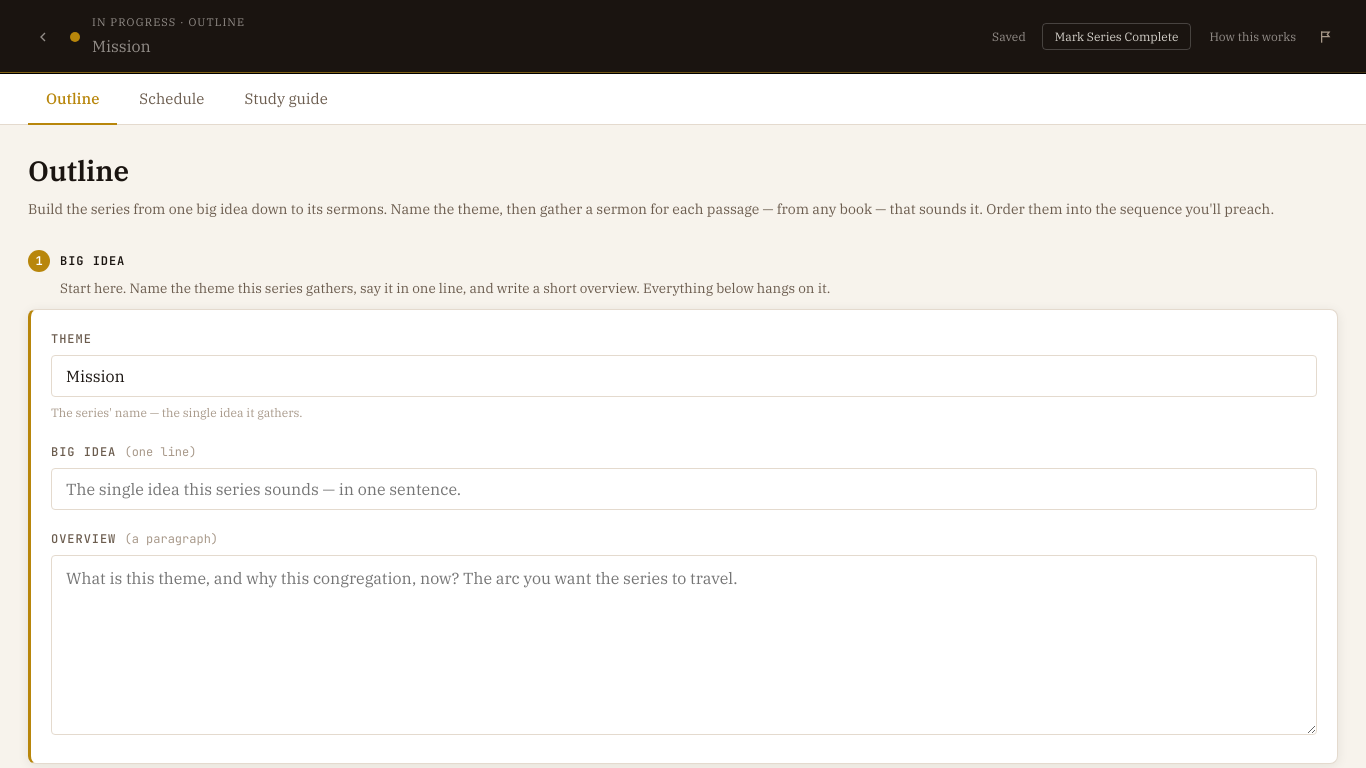
Test case: SeriesPlanner — save-failure retry safety › keeps 'Save failed' after an unrelated successful save while an earlier field write is still unsaved, and Retry recovers it (finding 15/1a)
The width and height of the screenshot is (1366, 768).
Expected: the text "Saved" is shown, [992,29,1026,44]
Replace the text in the field with placeholder "e.g. The Mission of God" with "T1": (684, 376) [51,356,1317,398]
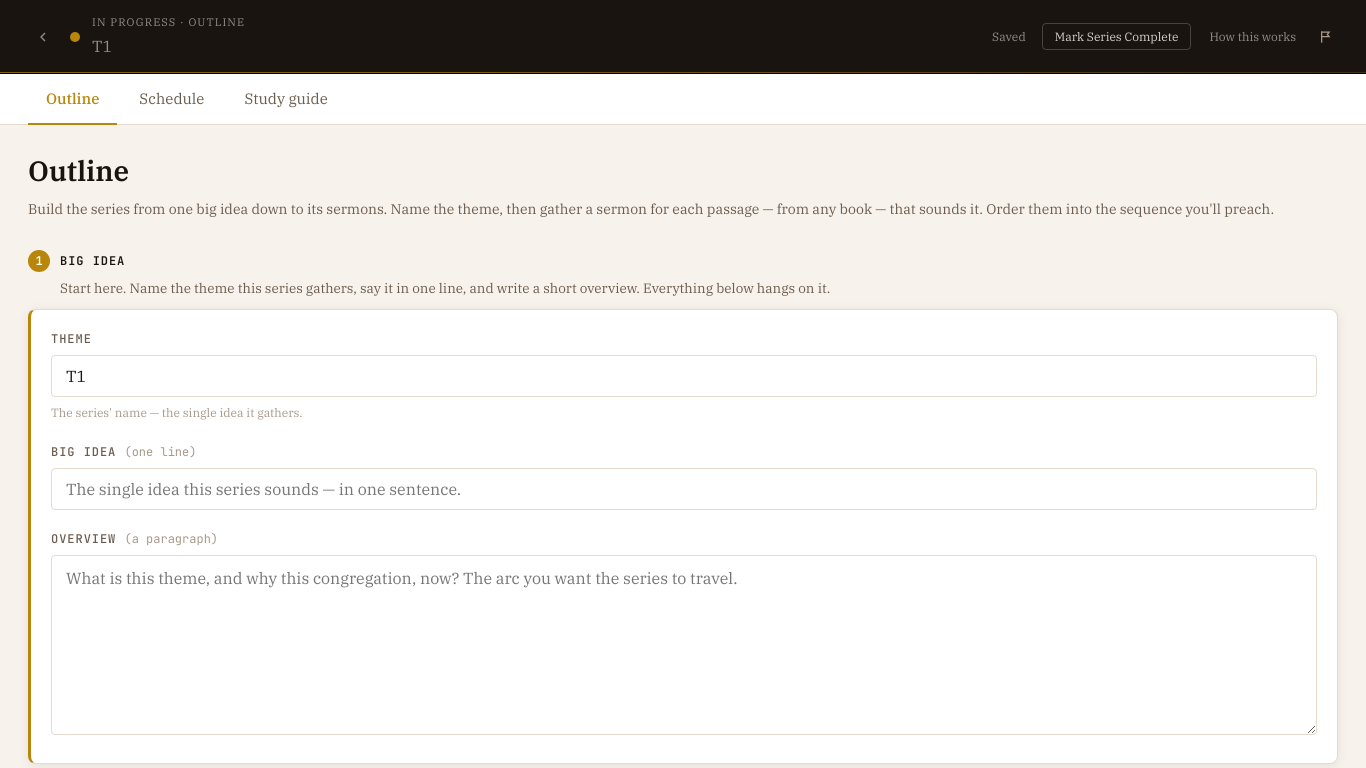
In the field with placeholder "The single idea this series sounds — in one sentence.": (684, 489) [51,468,1317,510], type "B1"
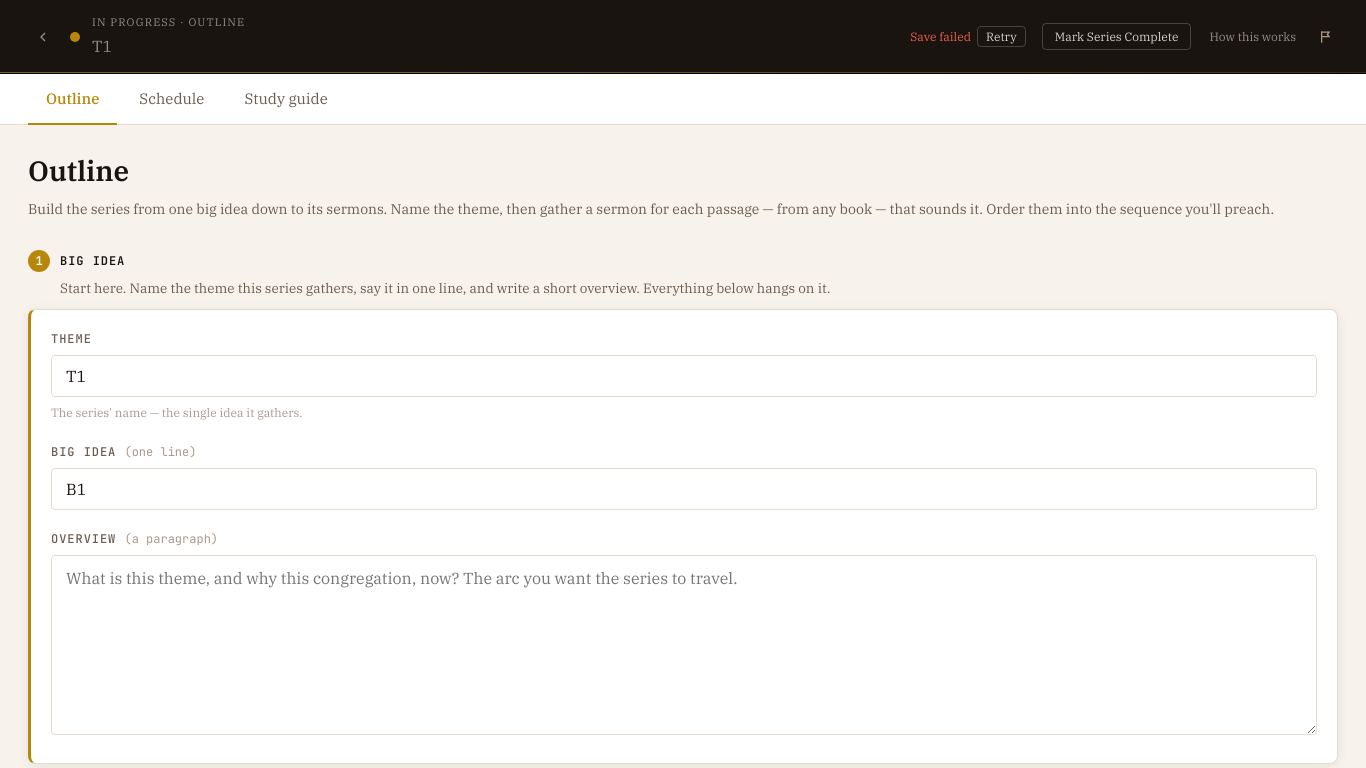
Replace the text in the field with placeholder "e.g. The Mission of God" with "T2": (684, 376) [51,356,1317,398]
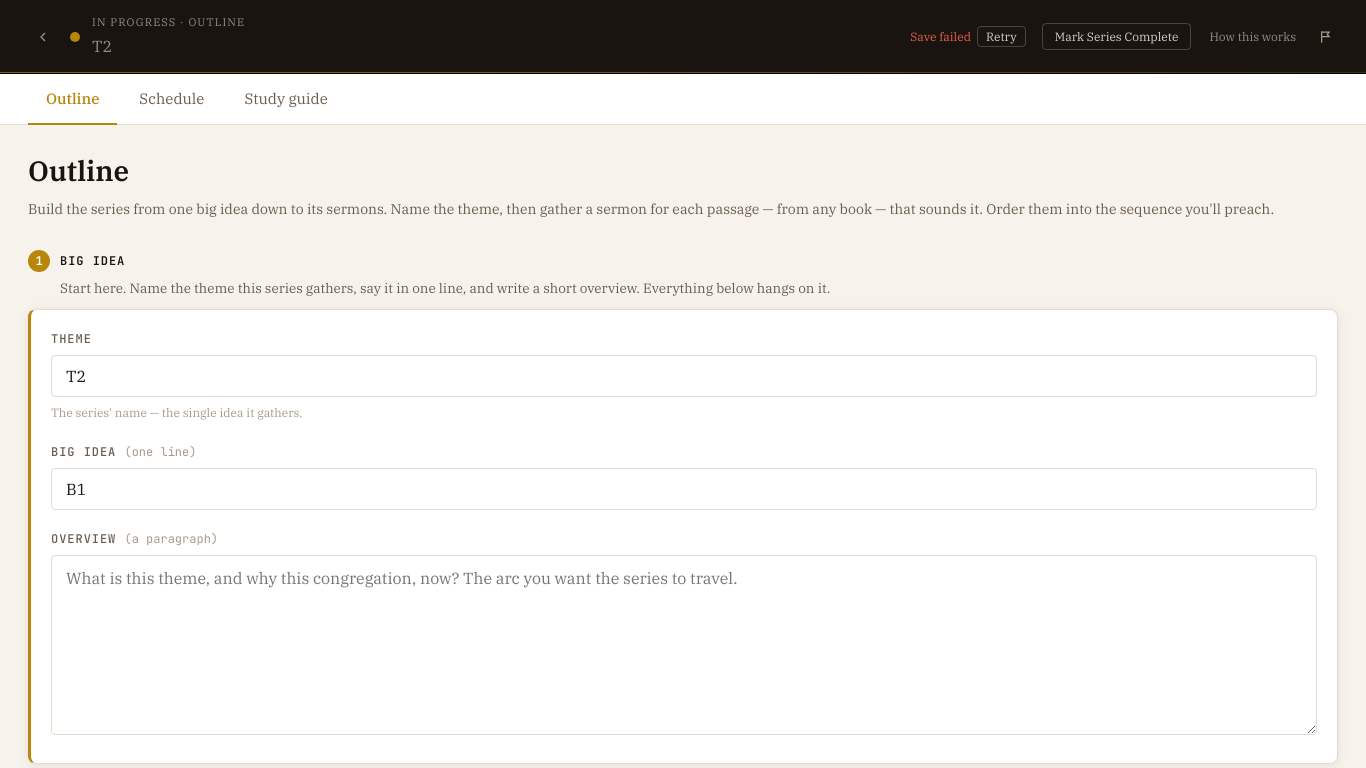
Expected: the text "Save failed" is shown, [910,27,971,46]
Replace the text in the field with placeholder "The single idea this series sounds — in one sentence." with "B2": (684, 489) [51,468,1317,510]
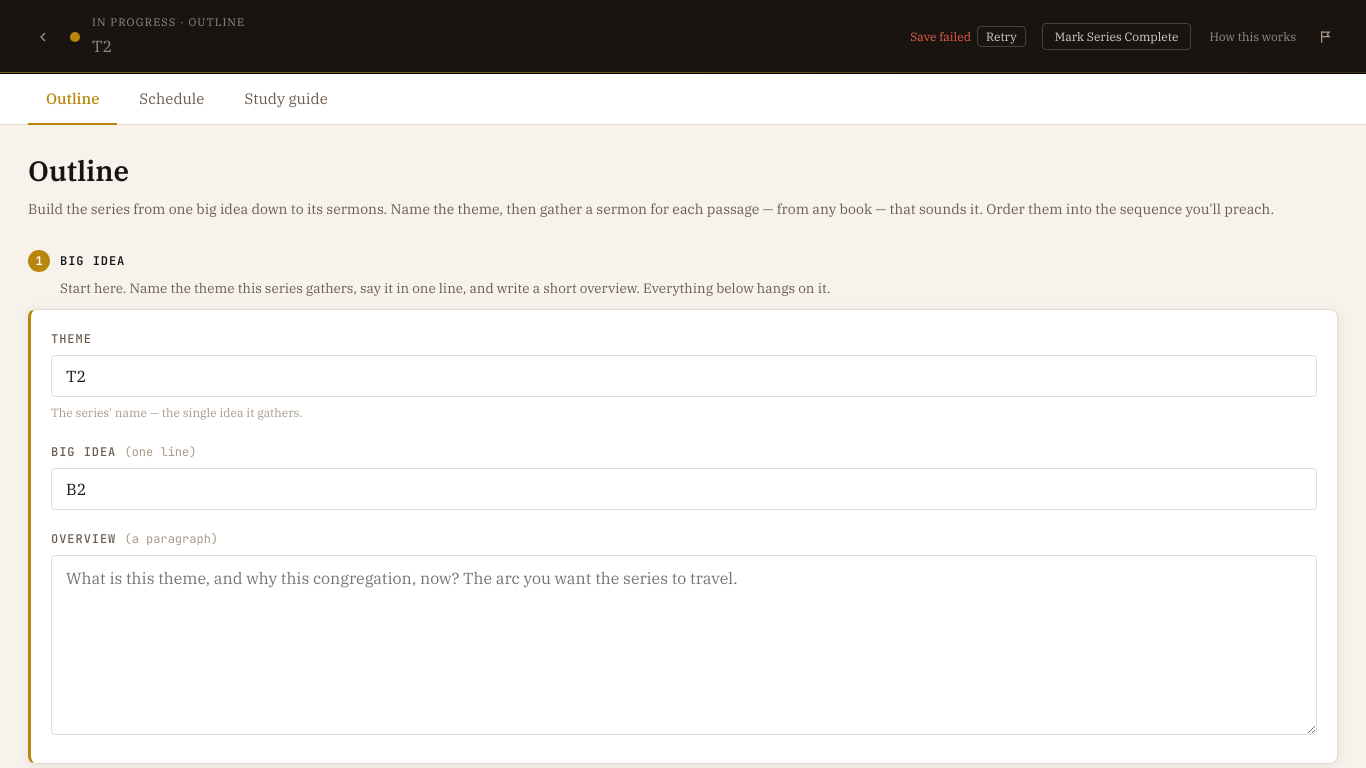
Expected: the text "Saved" is not shown
Expected: the text "Save failed" is shown, [910,27,971,46]
Note: Retry drains the queued (now-succeeding) failures → back to Saved.
Click the button "Retry": (1001, 37) [977,26,1026,47]
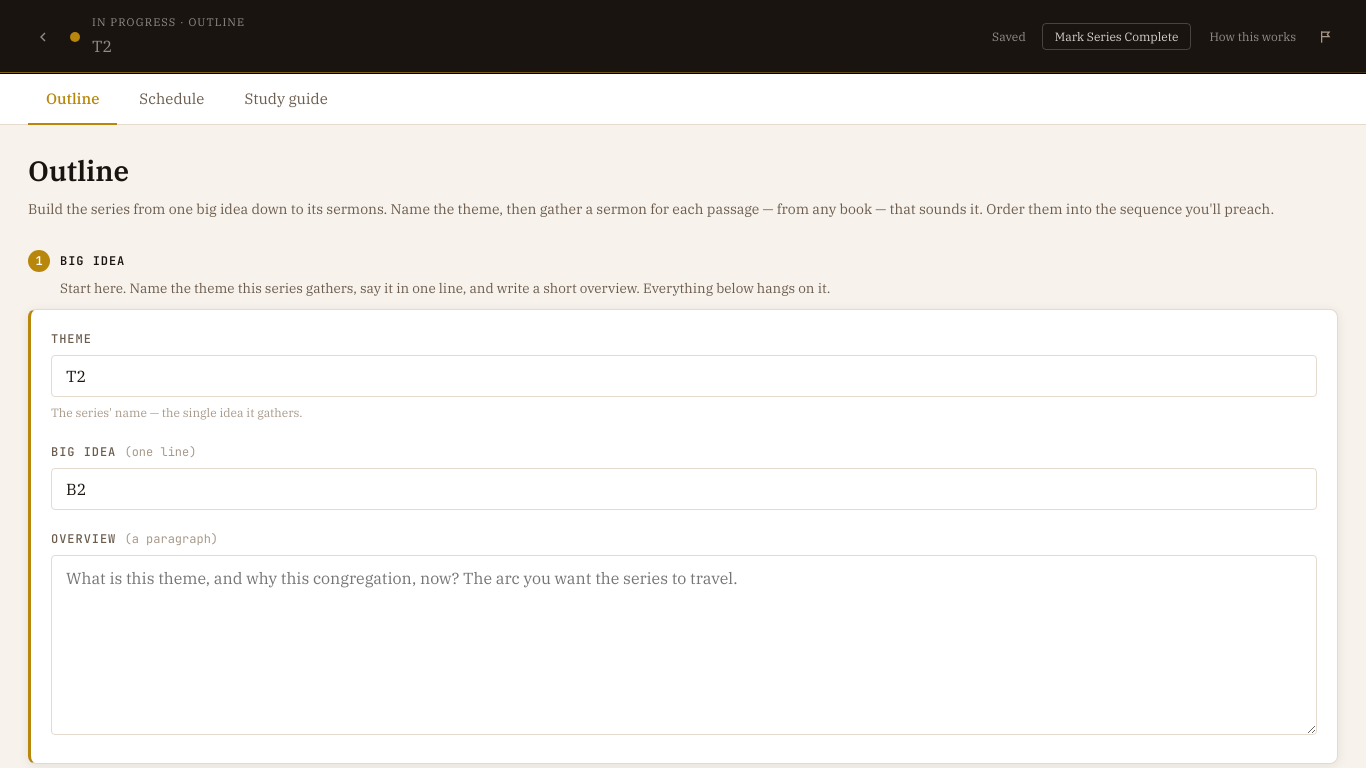
Expected: the text "Saved" is shown, [992,29,1026,44]
